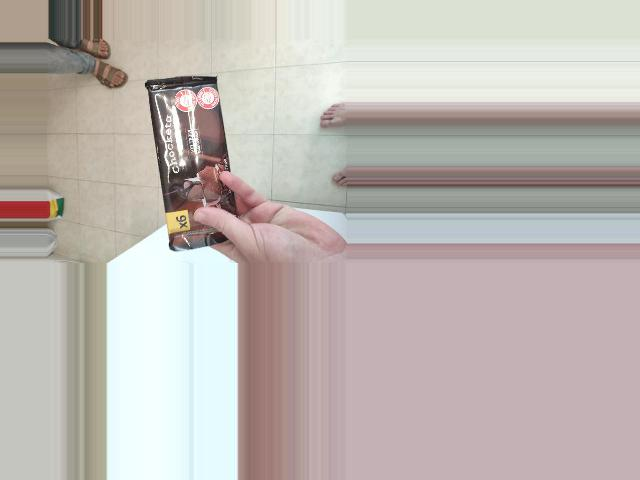chocolate: (145, 76, 256, 255)
